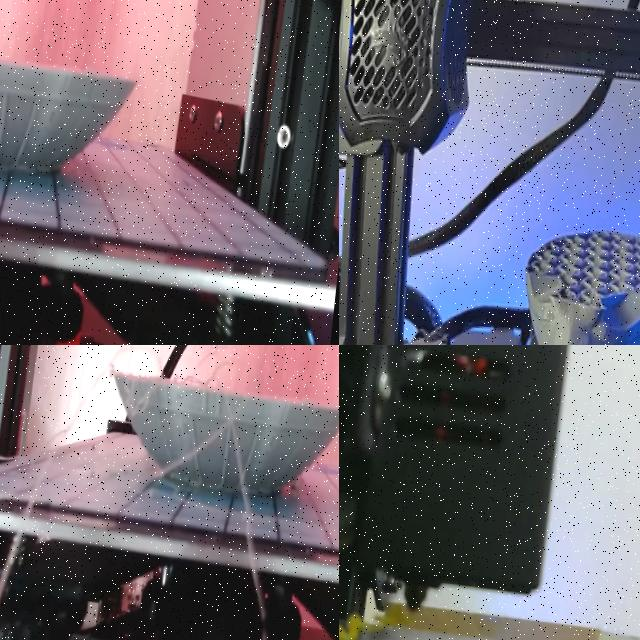spaghetti: (0, 345, 339, 640), (382, 604, 415, 626)
